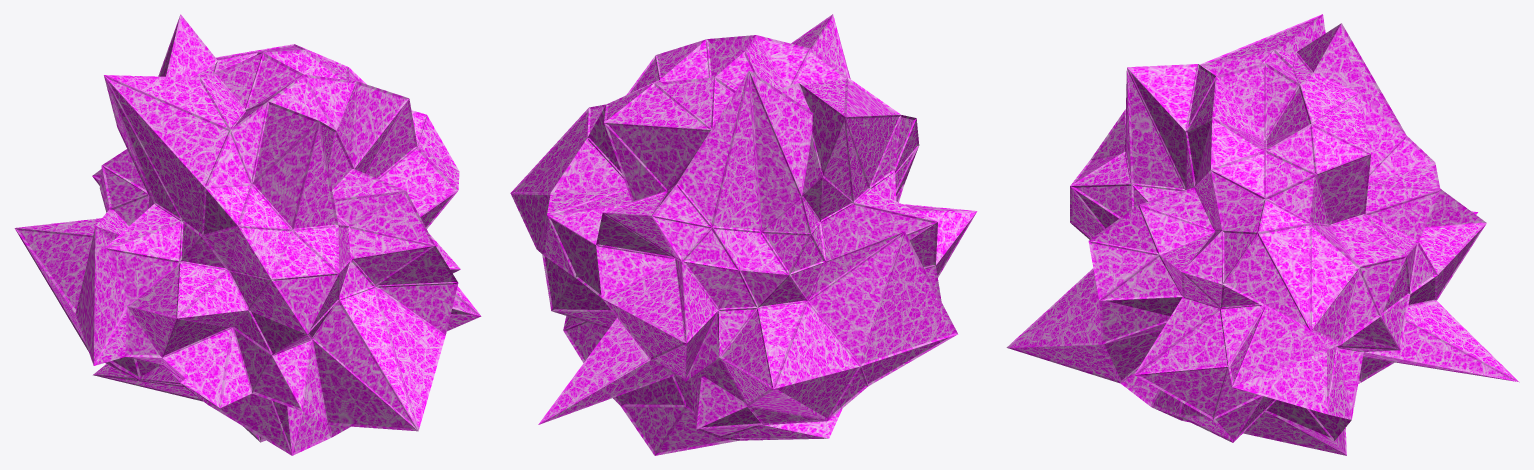
The model's file is virus_wf_app.fbx.
3 renders of one model, left to right at view 1: azimuth 30°, elevation 25°; view 2: azimuth 150°, elevation 25°; view 3: azimuth 270°, elevation 25°, orthographic. The views are drawn at different scales.
Visible parts, largest first — view 1: Icosphere; view 2: Icosphere; view 3: Icosphere.
Boxes of the visible parts, x1,y1,x2,y2 form: Icosphere: [14, 14, 481, 455]; Icosphere: [510, 14, 977, 455]; Icosphere: [1006, 14, 1519, 455].
Size of the model in its own units: 3.28 by 3.17 by 3.77.
